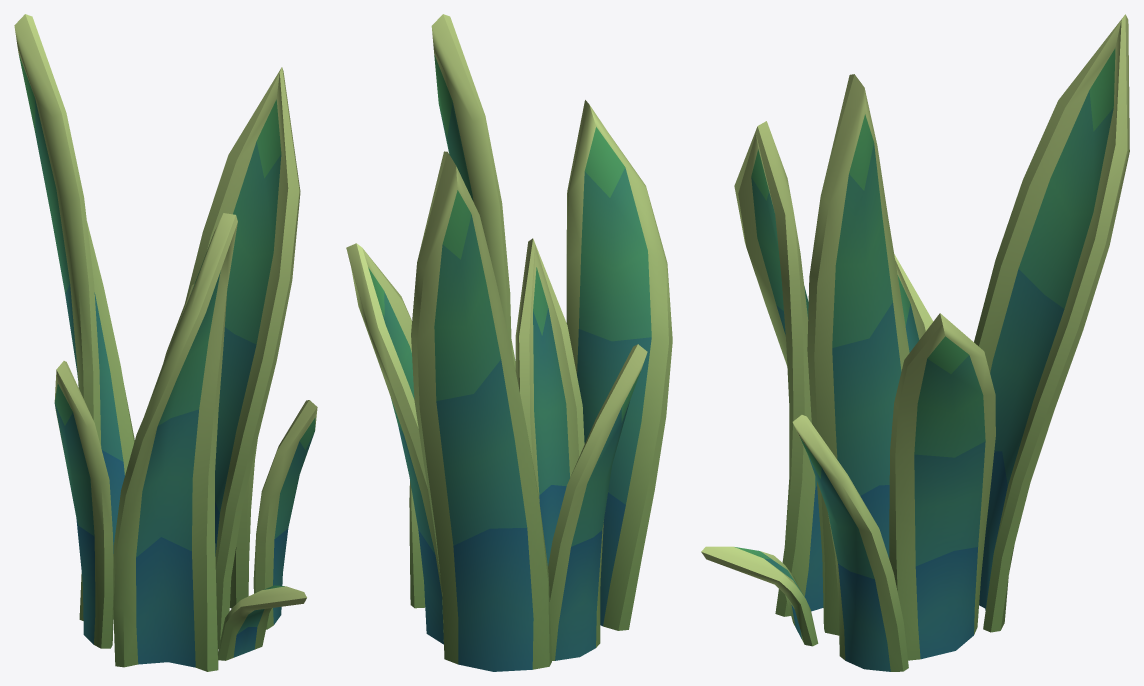
Rendered from plant20.glb.
The picture shows the model from 3 angles, left to right: view 1: azimuth 30°, elevation 25°; view 2: azimuth 150°, elevation 25°; view 3: azimuth 270°, elevation 25°; orthographic projection. The views are drawn at different scales.
Parts seen in each view (by area): view 1: sansevieria_plant_large; view 2: sansevieria_plant_large; view 3: sansevieria_plant_large.
Part boxes in pixels (x1=…): sansevieria_plant_large: x1=14, y1=14, x2=317, y2=671; sansevieria_plant_large: x1=346, y1=14, x2=672, y2=671; sansevieria_plant_large: x1=701, y1=14, x2=1129, y2=671.
Size of the model in its own units: 1.3 by 2.62 by 1.71.
1 material, 1 textured.
